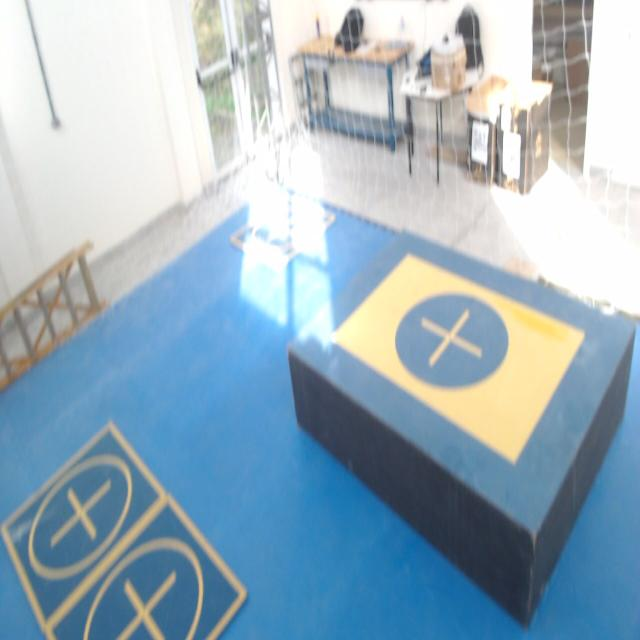base_inicio: (328, 252, 585, 464)
base_pouso: (0, 421, 169, 634), (45, 493, 250, 639)
